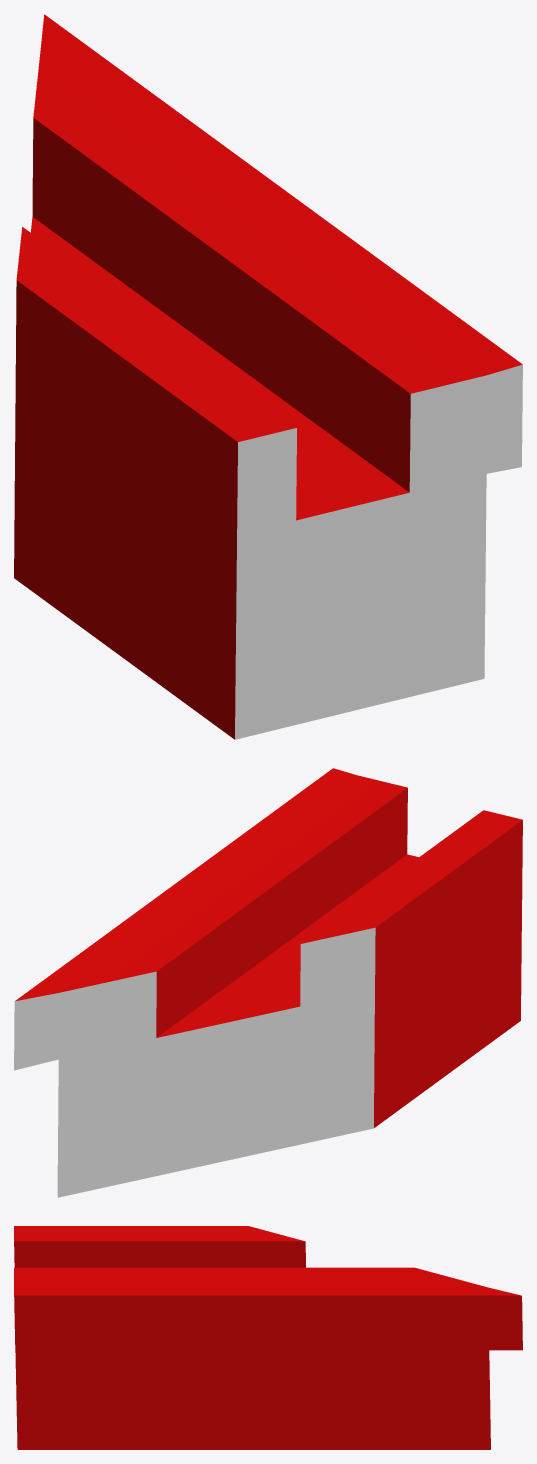
Rendered from mdl_ciudadela_pared_fracturepart6.fbx.
3 renders of one model, top to bottom at view 1: azimuth 30°, elevation 25°; view 2: azimuth 150°, elevation 25°; view 3: azimuth 270°, elevation 25°, orthographic. The views are drawn at different scales.
Visible parts, largest first — view 1: mdl_ciudadela_pared_fracturepart6; view 2: mdl_ciudadela_pared_fracturepart6; view 3: mdl_ciudadela_pared_fracturepart6.
Part boxes in pixels (x1,y1,x2,y2): mdl_ciudadela_pared_fracturepart6: [14, 14, 522, 739]; mdl_ciudadela_pared_fracturepart6: [14, 768, 522, 1197]; mdl_ciudadela_pared_fracturepart6: [14, 1226, 522, 1449].
Bounding box in the file's own units: 4.07 × 4.21 × 11.88.
